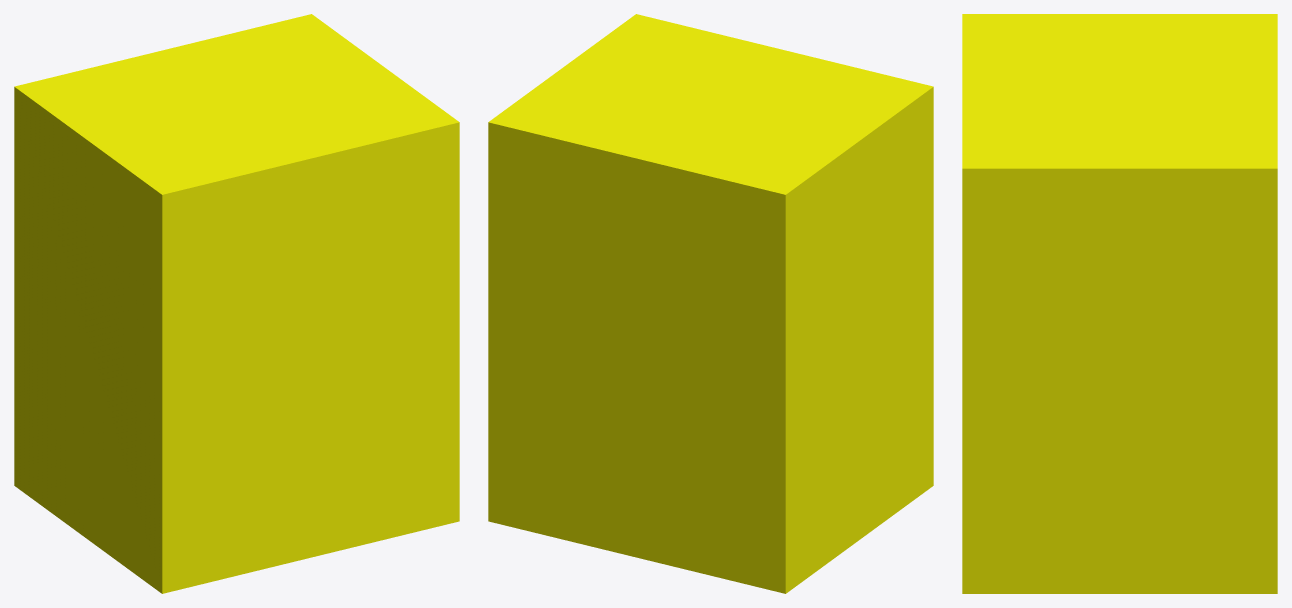
The model's file is kuangti.glb.
The picture shows the model from 3 angles, left to right: view 1: azimuth 30°, elevation 25°; view 2: azimuth 150°, elevation 25°; view 3: azimuth 270°, elevation 25°; orthographic projection. The views are drawn at different scales.
Bounding box in the file's own units: 5368 × 6879 × 4624.
